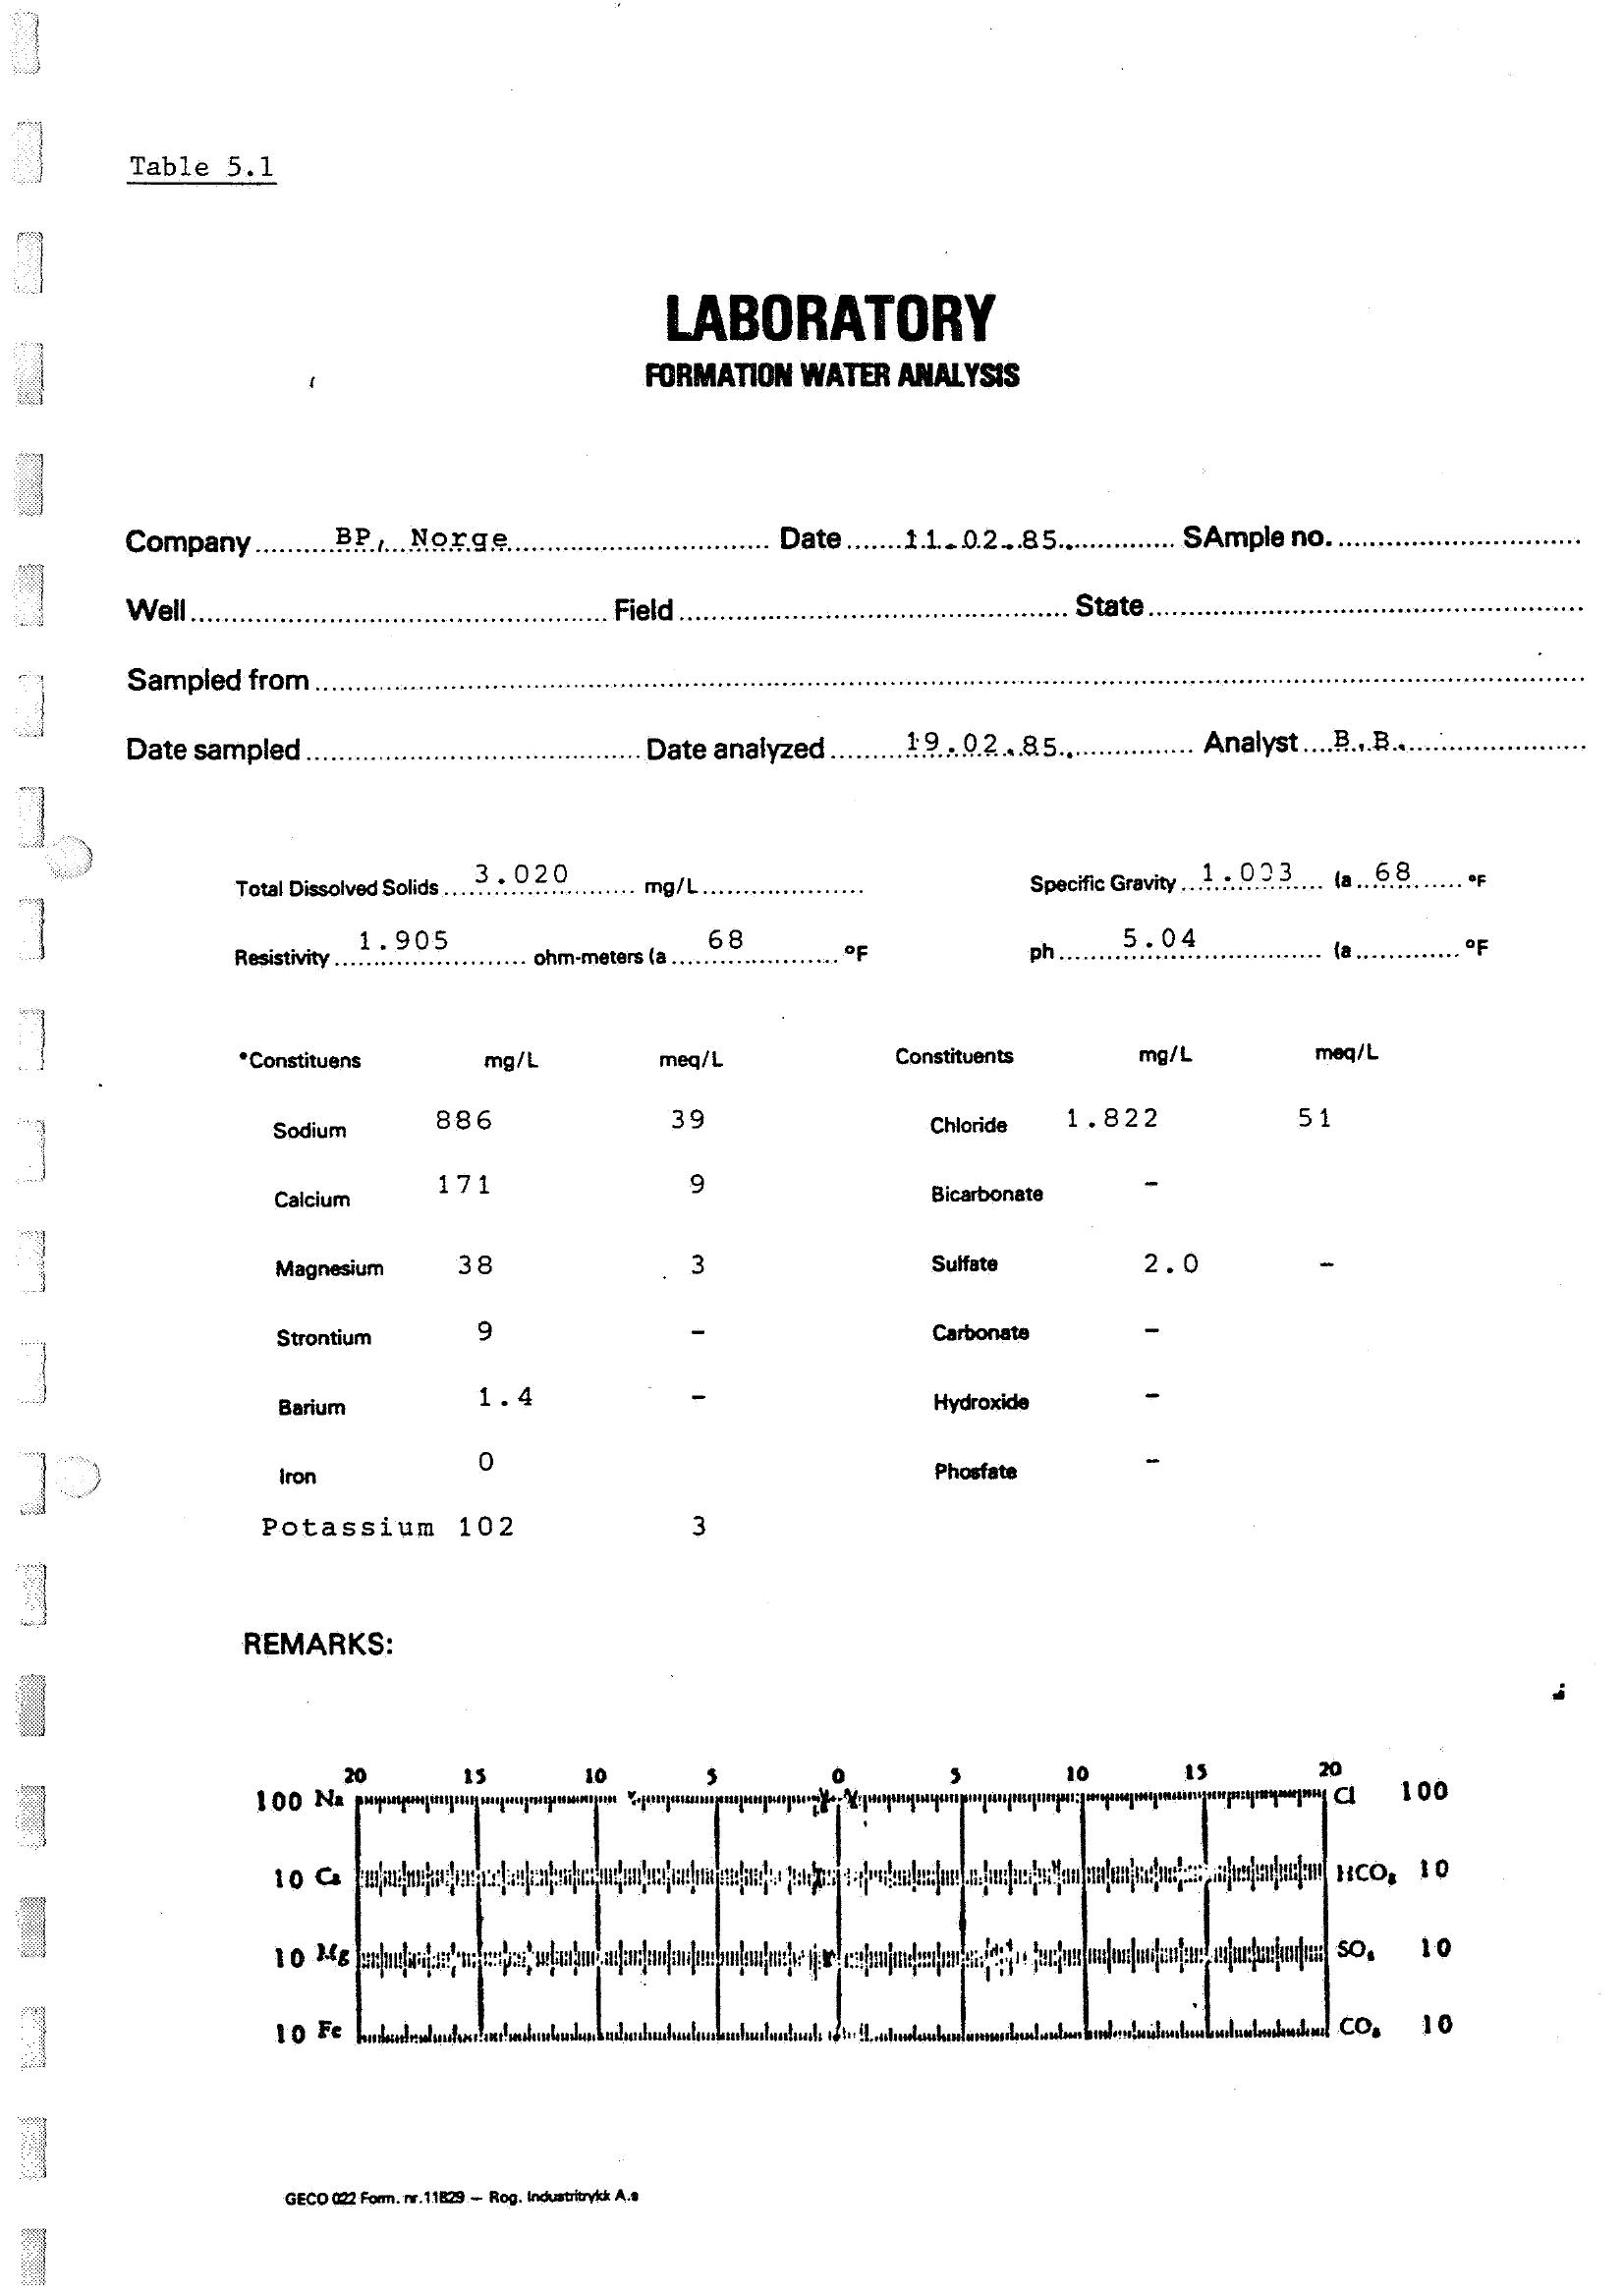graph: (207, 1734, 1499, 2105)
undefined: (102, 248, 1610, 1587)
